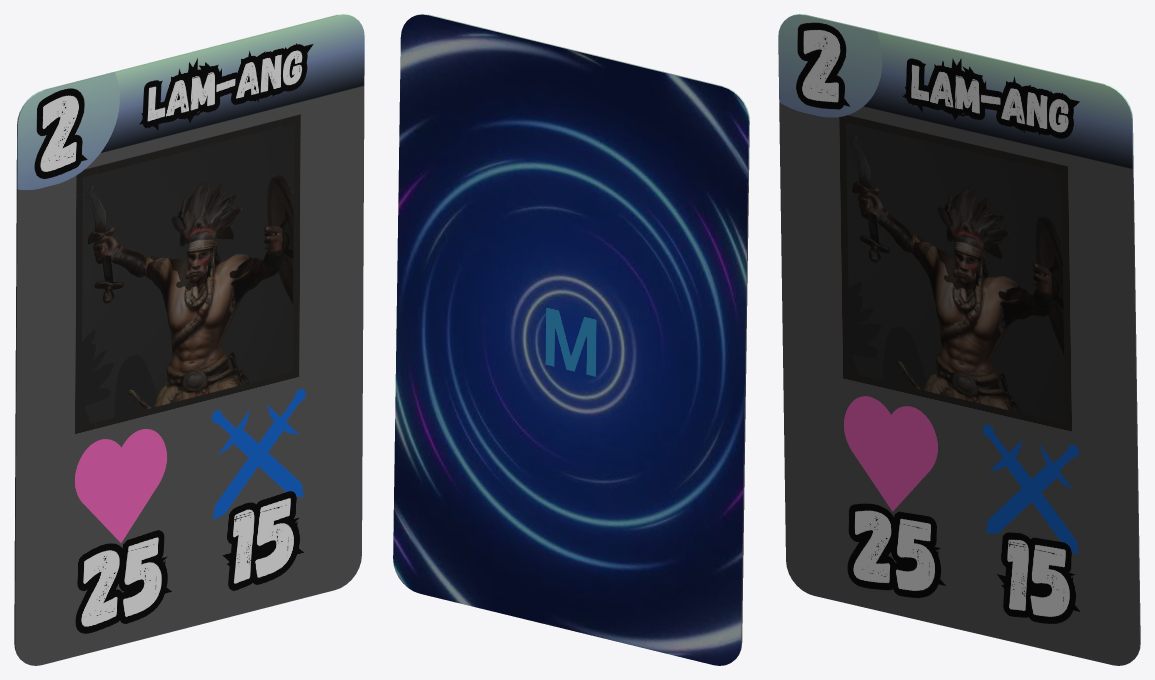
Rendered from Lam-Ang2.glb.
3 renders of one model, left to right at view 1: azimuth 30°, elevation 25°; view 2: azimuth 150°, elevation 25°; view 3: azimuth 330°, elevation 25°, orthographic.
Parts seen in each view (by area): view 1: Card; view 2: Card; view 3: Card.
Boxes of the visible parts, <box> form: Card: <box>14,14,364,665</box>; Card: <box>393,14,749,665</box>; Card: <box>778,14,1140,665</box>.
Size of the model in its own units: 0.0564 by 0.0891 by 0.0024.
2 materials, 2 textured.
